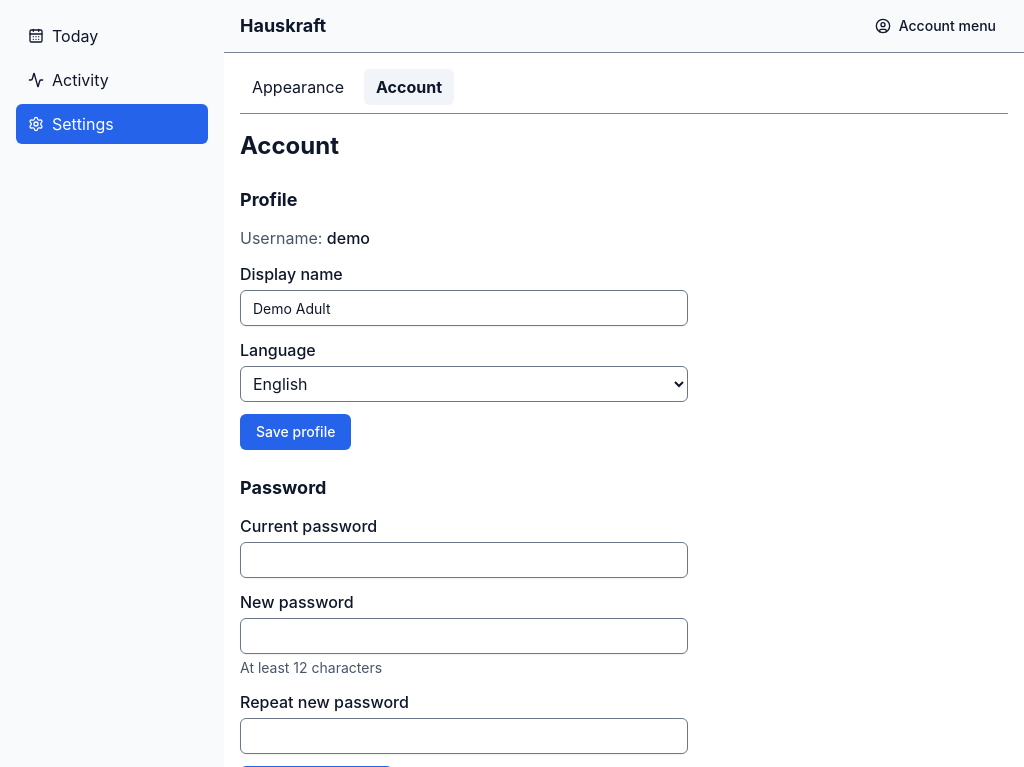
Test: Settings → Account: profile (M1S-E05-03) › shows the username read-only and saves name and language
Check: the element "Profile" shows "demo", box [327,228,370,248]
Replace the text in the field labelled "Display name" with "Demo Renamed" at (464, 308), box [240,290,688,326]
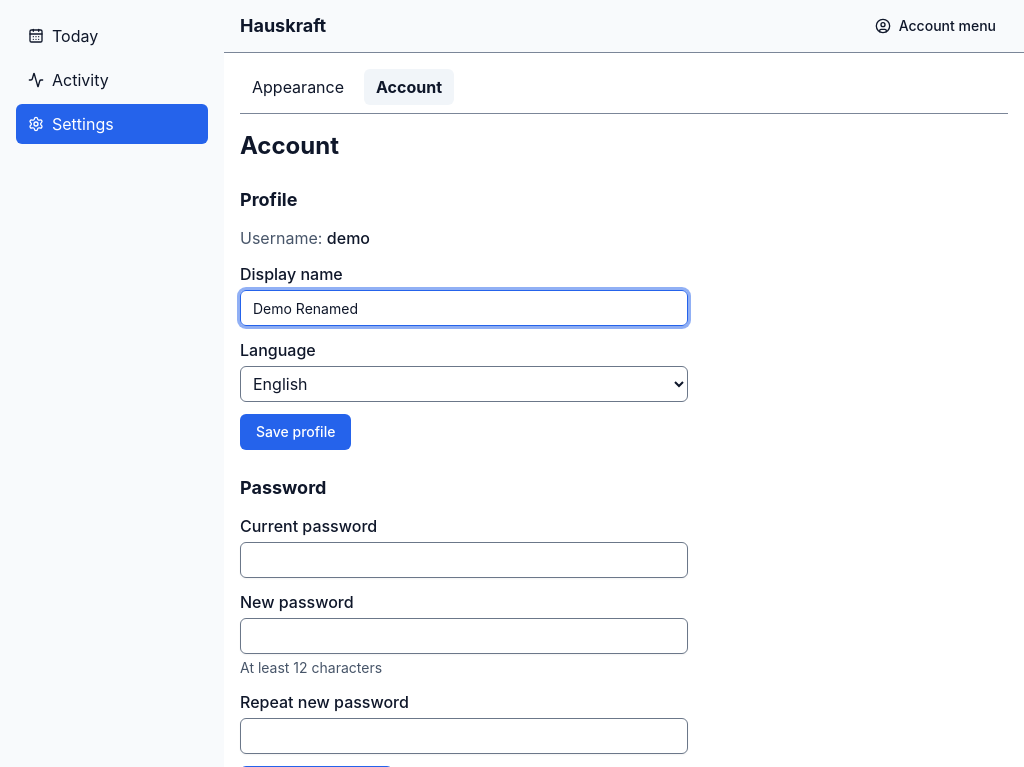
Select "Deutsch" in the dropdown labelled "Language" at (464, 384), box [240,366,688,402]
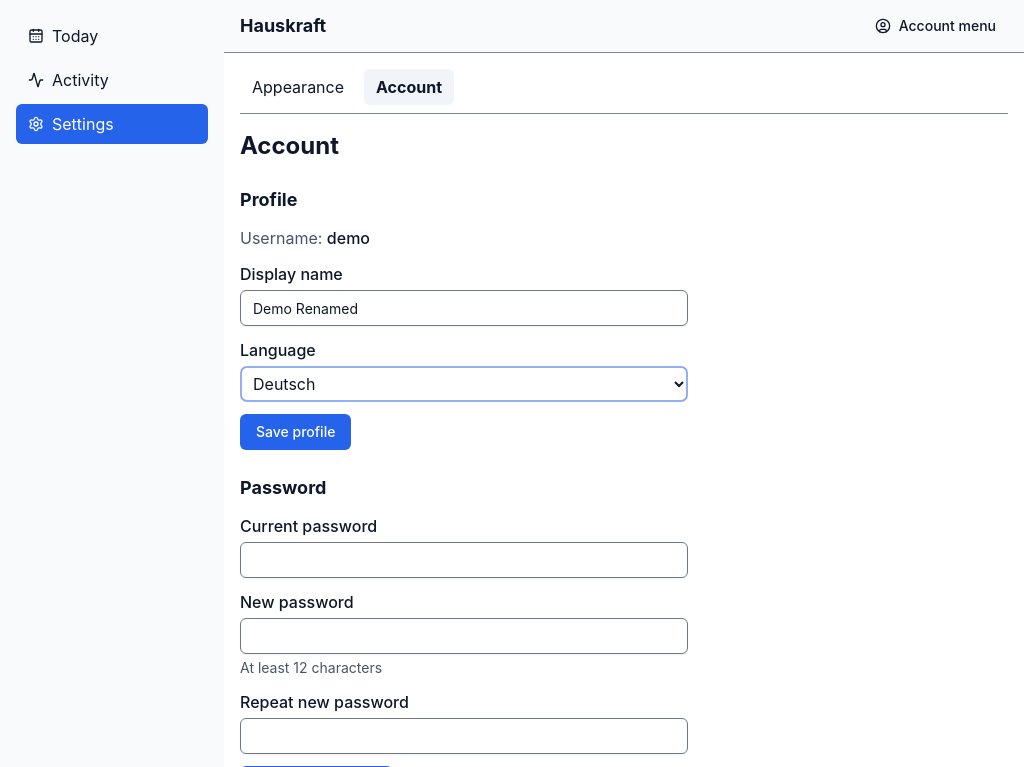
Click the button "Save profile" at (296, 432), box [240,414,351,450]
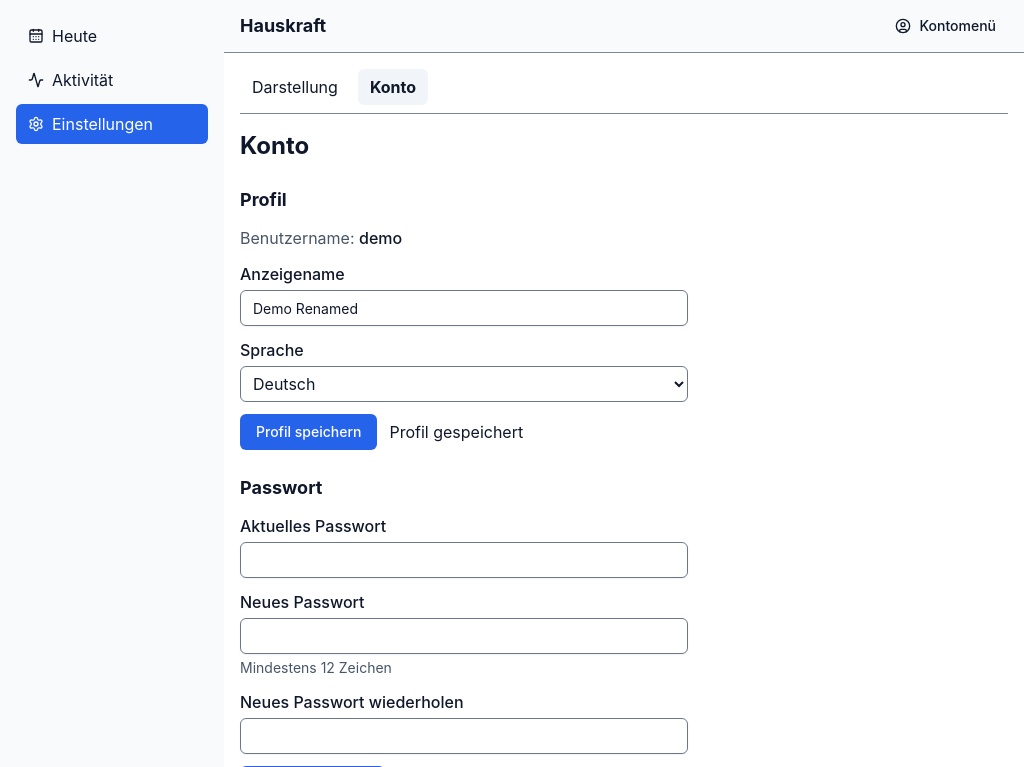
Check: the text "Profil gespeichert" is shown, box [389,420,523,444]
Check: the heading "Konto" is shown, box [240,131,309,160]
